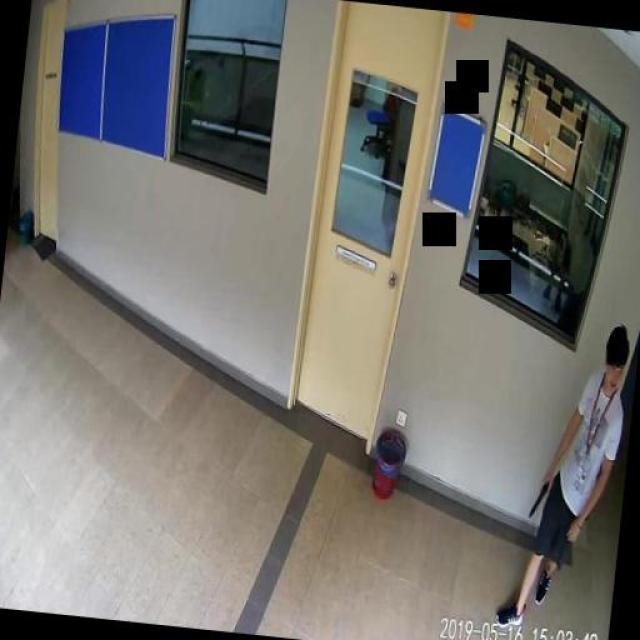gun: (529, 472, 550, 518)
